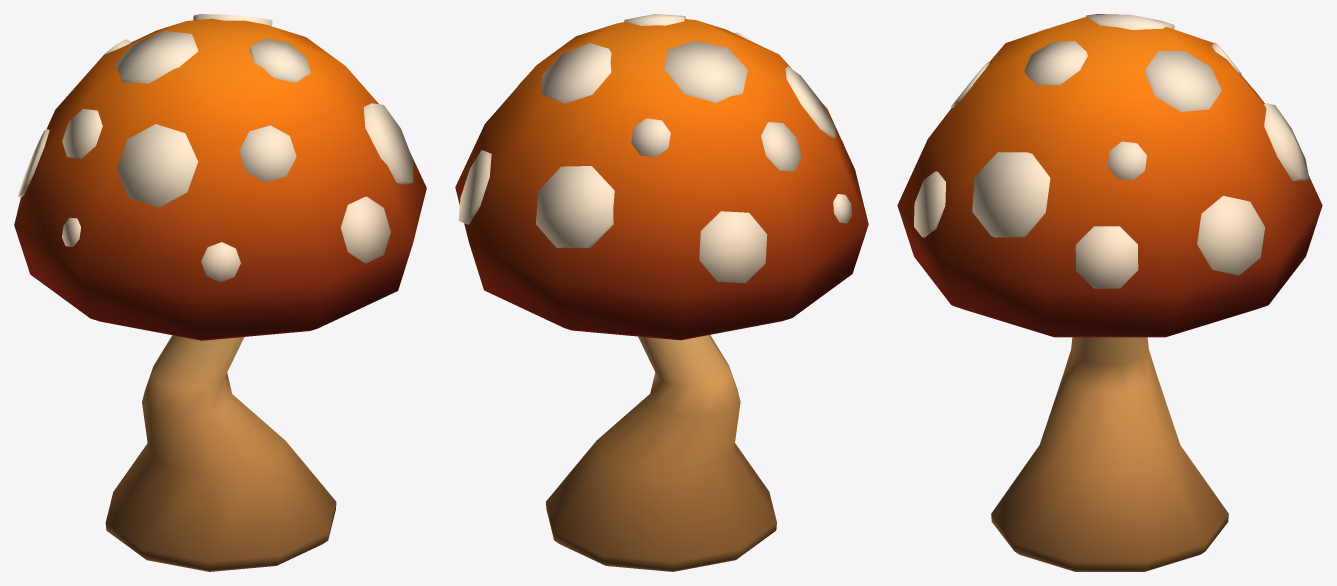
File: SM_Vegetation_Mushroom_C_Curve_Balls_OrangeAndWhite.fbx
3 renders of one model, left to right at view 1: azimuth 30°, elevation 25°; view 2: azimuth 150°, elevation 25°; view 3: azimuth 270°, elevation 25°, orthographic.
Parts seen in each view (by area): view 1: SM_Vegetation_Mushroom_C_Curve_Balls_OrangeAndWhite; view 2: SM_Vegetation_Mushroom_C_Curve_Balls_OrangeAndWhite; view 3: SM_Vegetation_Mushroom_C_Curve_Balls_OrangeAndWhite.
Boxes of the visible parts, x1,y1,x2,y2 form: SM_Vegetation_Mushroom_C_Curve_Balls_OrangeAndWhite: (14, 14, 426, 571); SM_Vegetation_Mushroom_C_Curve_Balls_OrangeAndWhite: (455, 14, 868, 571); SM_Vegetation_Mushroom_C_Curve_Balls_OrangeAndWhite: (897, 14, 1322, 571).
Size of the model in its own units: 44.46 by 59.47 by 46.53.
